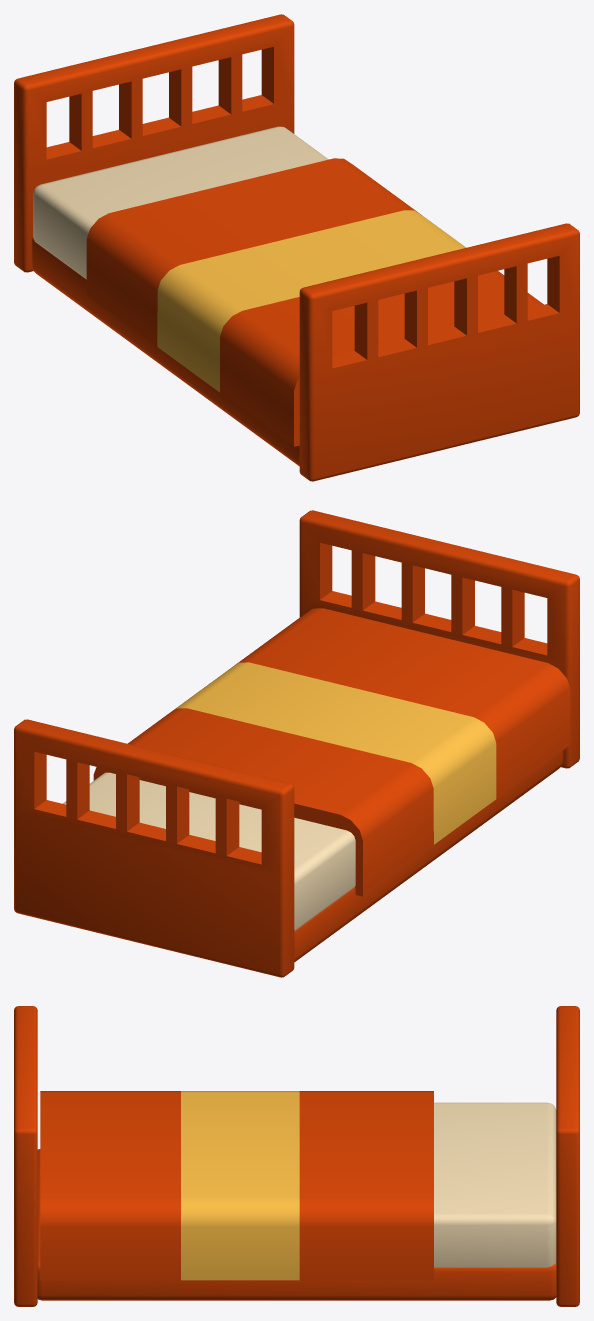
Rendered from Single Bed_2V.fbx.
The picture shows the model from 3 angles, top to bottom: view 1: azimuth 30°, elevation 25°; view 2: azimuth 150°, elevation 25°; view 3: azimuth 270°, elevation 25°; orthographic projection. The views are drawn at different scales.
Visible parts, largest first — view 1: Single Bed_2V; view 2: Single Bed_2V; view 3: Single Bed_2V.
Boxes of the visible parts, box(x1,y1,x2,y2) form: Single Bed_2V: box(14, 14, 579, 481); Single Bed_2V: box(14, 510, 579, 977); Single Bed_2V: box(14, 1006, 579, 1306).
Bounding box in the file's own units: 0.8648 × 0.5659 × 1.63.
